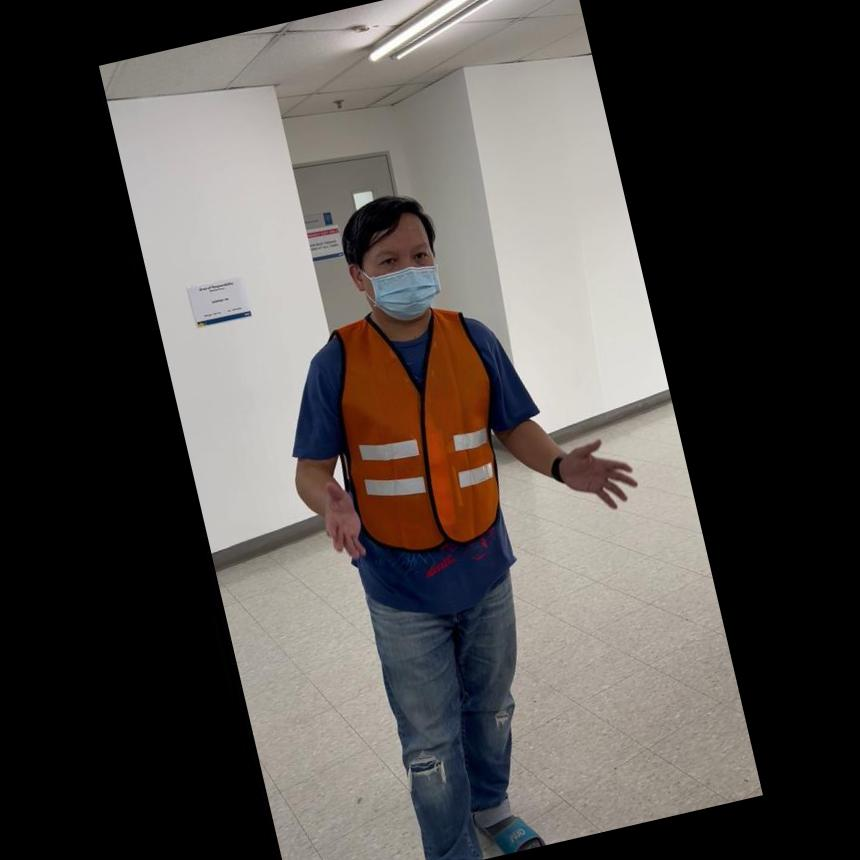No-gloves: (547, 426, 642, 521), (302, 469, 370, 570)
